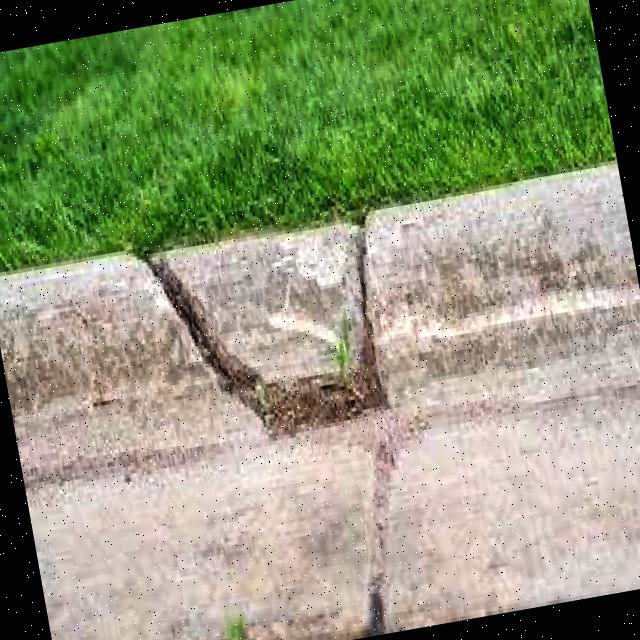curb: (1, 163, 640, 486)
